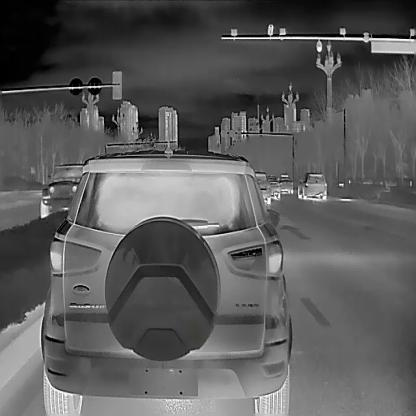car: (39, 145, 292, 412), (39, 162, 91, 217), (297, 171, 327, 201), (253, 171, 270, 205), (264, 175, 279, 199), (279, 172, 292, 195)
